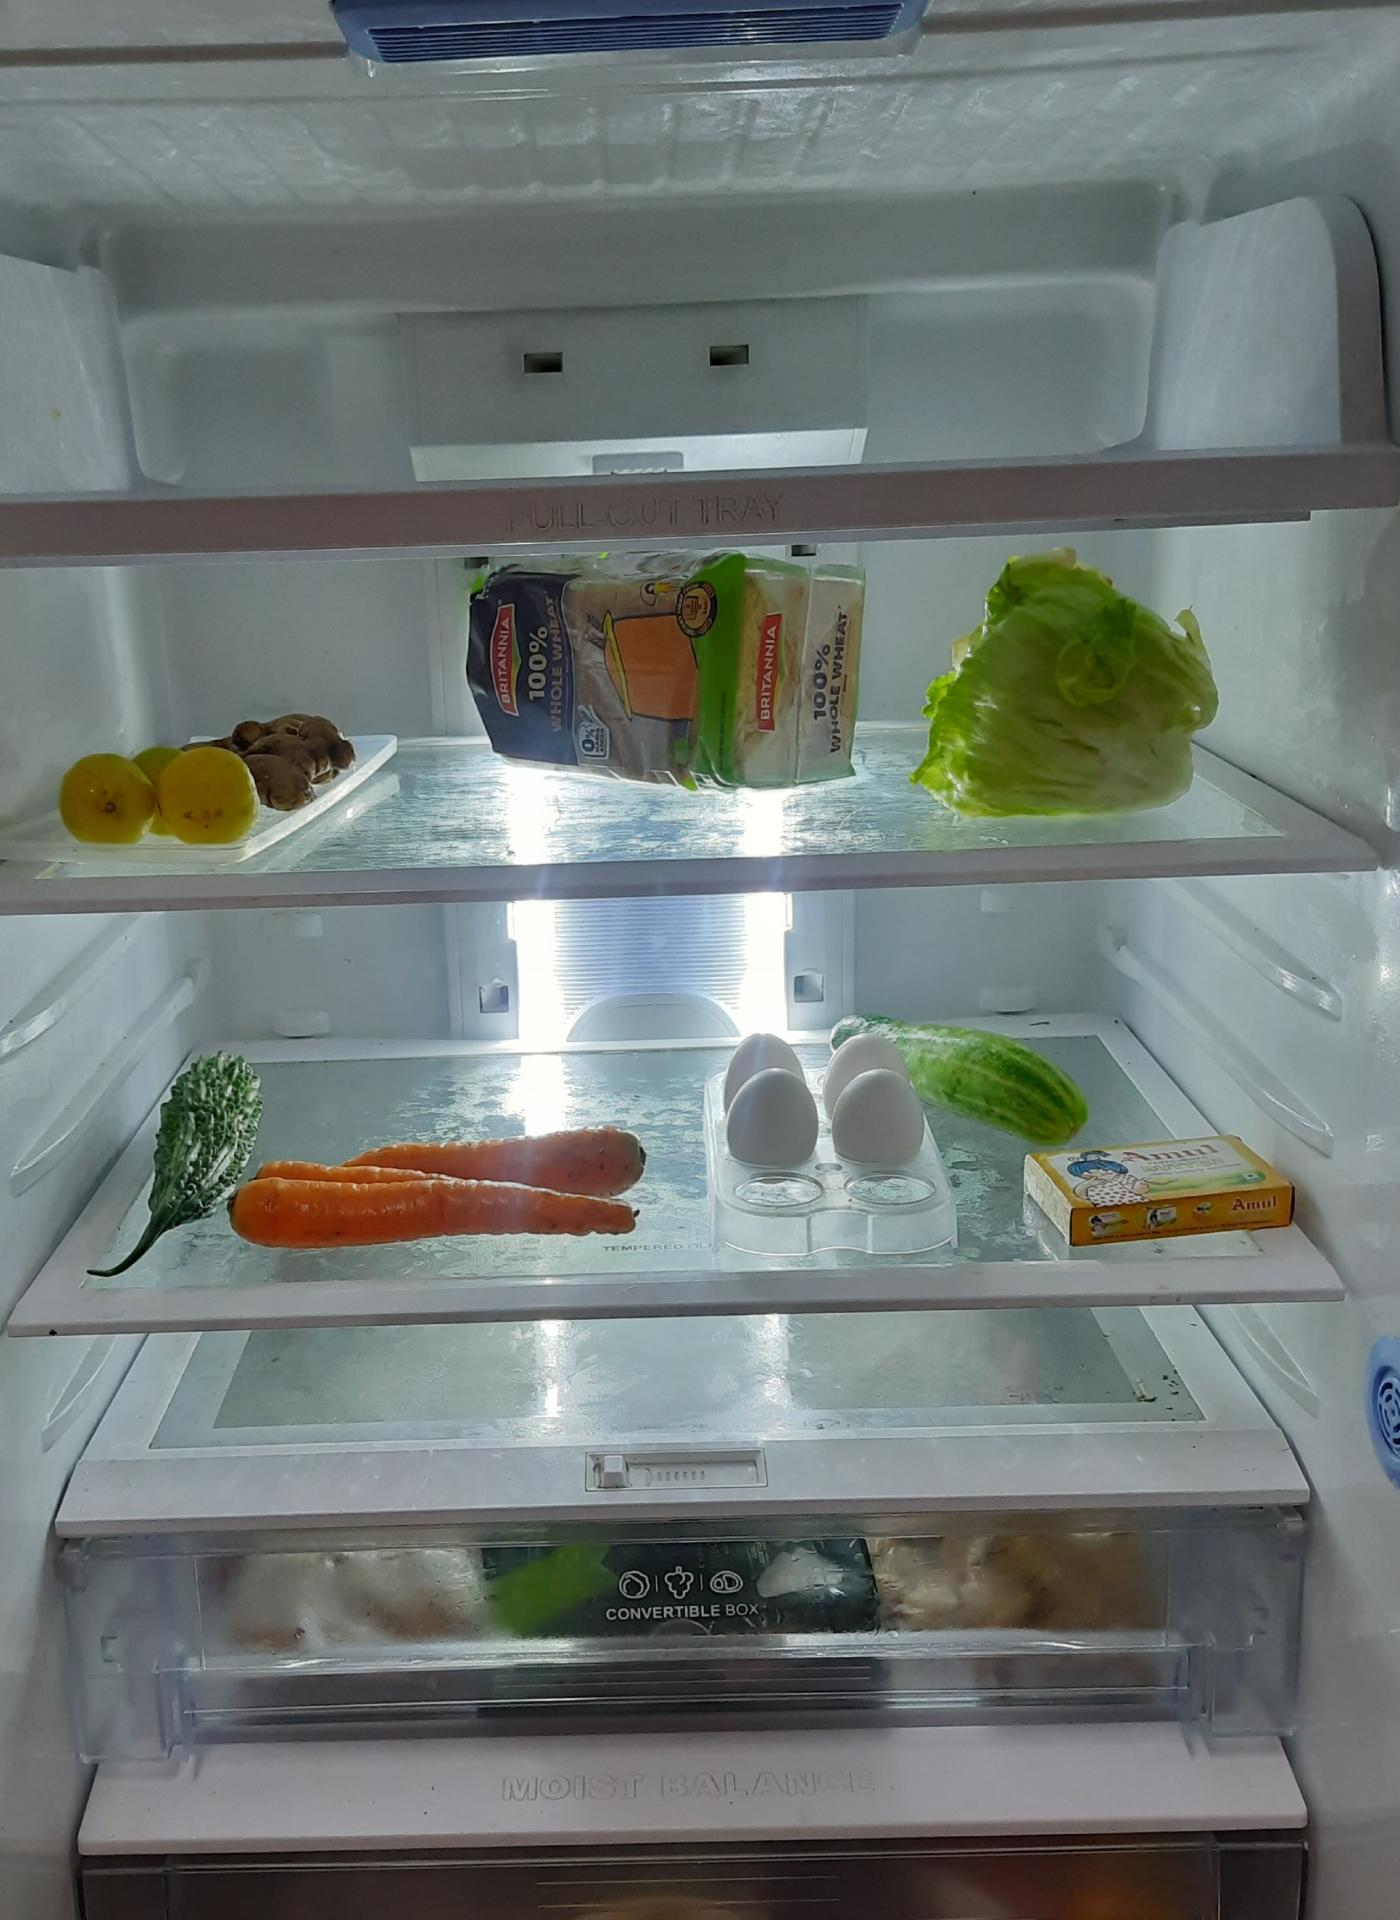bitter gourd: (95, 1045, 274, 1294)
bread: (474, 553, 872, 787)
butter: (1023, 1128, 1296, 1242)
carrots: (231, 1128, 652, 1248)
cucumber: (842, 1026, 1093, 1146)
egg: (726, 1024, 933, 1175)
ginger: (228, 708, 359, 809)
lemon: (60, 747, 262, 851)
lettuce: (906, 546, 1209, 805)
